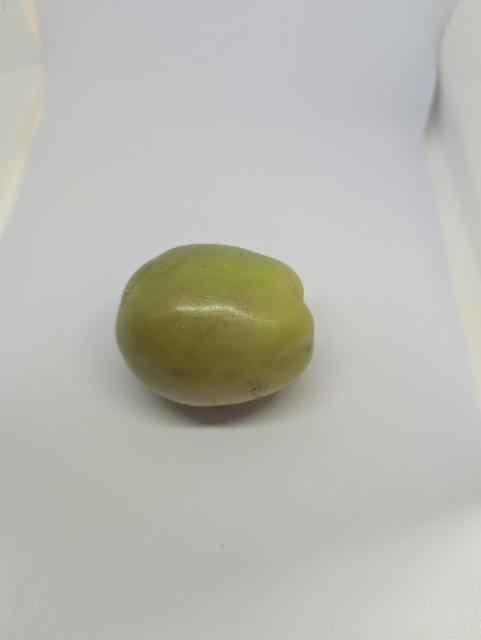green: (111, 237, 321, 418)
